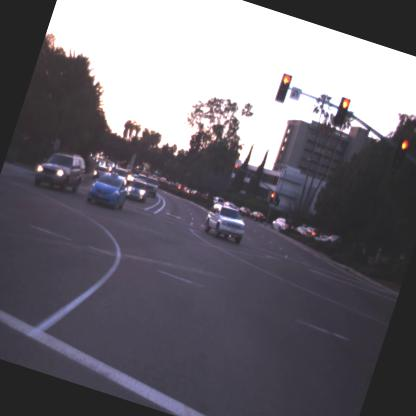trafficlight: (390, 136, 412, 174), (332, 95, 354, 132), (274, 70, 296, 106), (266, 191, 278, 210), (233, 164, 240, 174)
